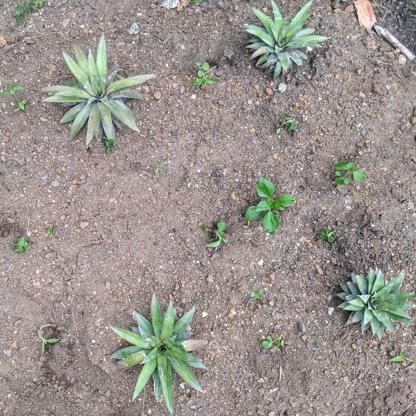pineapple: (40, 32, 156, 151), (104, 291, 210, 416), (240, 1, 330, 79), (336, 266, 416, 343)
weed: (242, 176, 297, 235), (1, 80, 33, 118), (272, 111, 309, 143), (201, 217, 232, 254), (193, 56, 222, 92), (259, 327, 291, 358), (332, 159, 365, 189), (11, 231, 36, 256)
